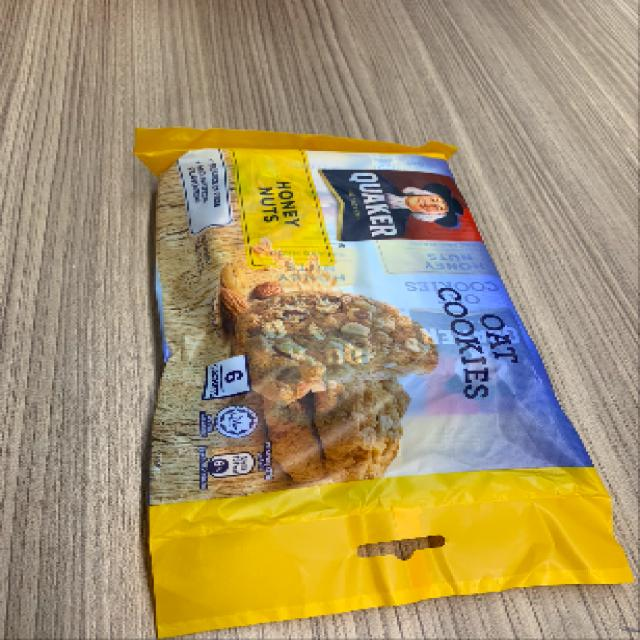object_name: (158, 134, 581, 584)
